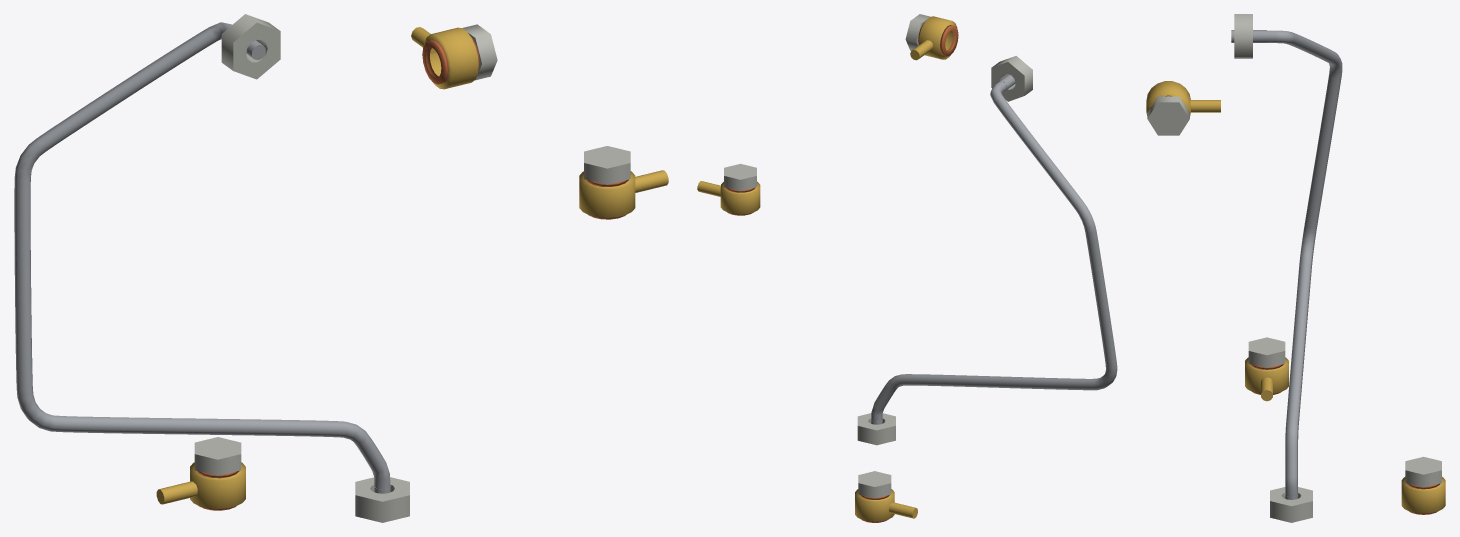
The model's file is wur-lines.glb.
The picture shows the model from 3 angles, left to right: view 1: azimuth 30°, elevation 25°; view 2: azimuth 150°, elevation 25°; view 3: azimuth 270°, elevation 25°; orthographic projection. The views are drawn at different scales.
Visible parts, largest first — view 1: wur-lines:steel, wur-lines:zincPlate, wur-lines:brass, wur-lines:copper; view 2: wur-lines:steel, wur-lines:zincPlate, wur-lines:brass, wur-lines:copper; view 3: wur-lines:steel, wur-lines:zincPlate, wur-lines:brass.
Boxes of the visible parts, x1,y1,x2,y2 form: wur-lines:steel: (14,22,390,493); wur-lines:zincPlate: (194,14,630,522); wur-lines:brass: (156,27,668,508); wur-lines:copper: (197,36,628,510); wur-lines:steel: (871,74,1117,424); wur-lines:zincPlate: (724,14,1032,498); wur-lines:brass: (697,16,957,521); wur-lines:copper: (725,22,958,522); wur-lines:steel: (1231,30,1342,499); wur-lines:zincPlate: (1147,14,1441,522); wur-lines:brass: (1146,81,1445,513).
Bounding box in the file's own units: 183 × 166 × 97.49.
